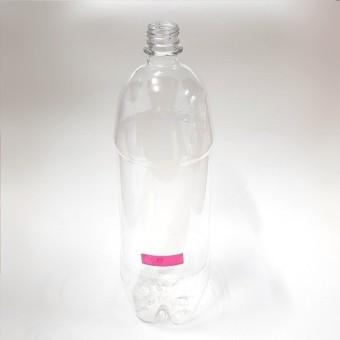plastic_bottle: (113, 19, 218, 329)
